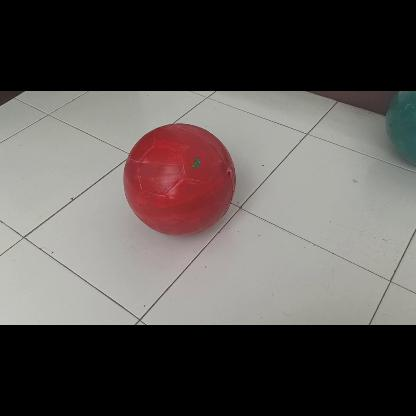red_ball: (122, 122, 236, 236)
